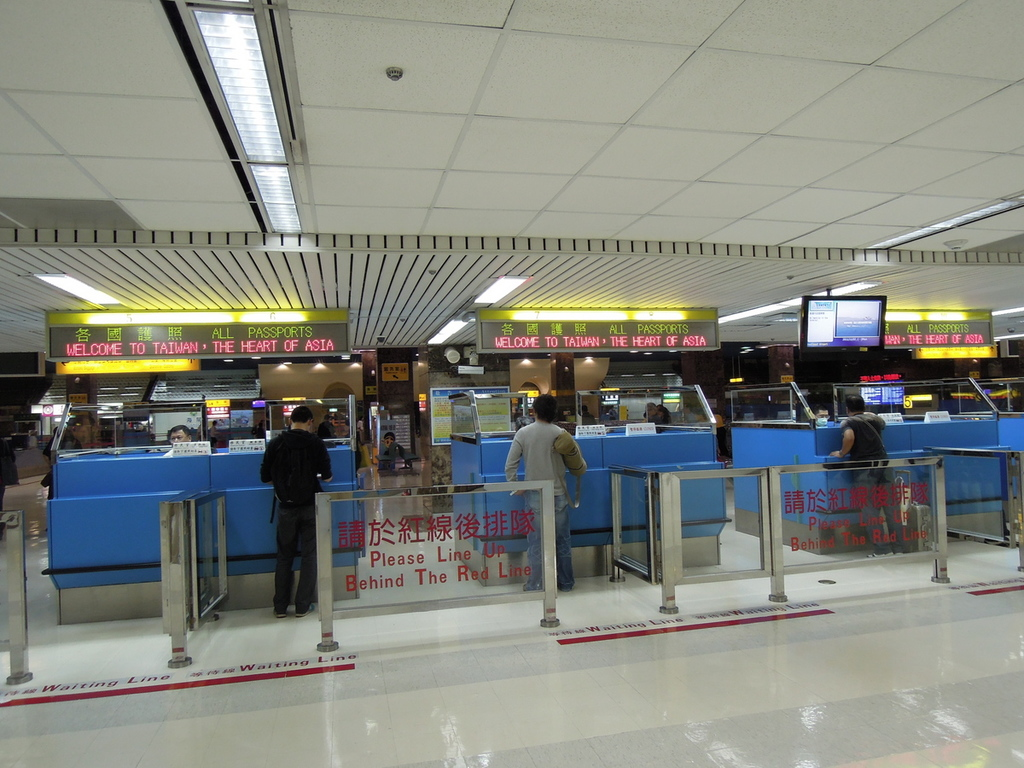Person: (0, 394, 907, 617)
